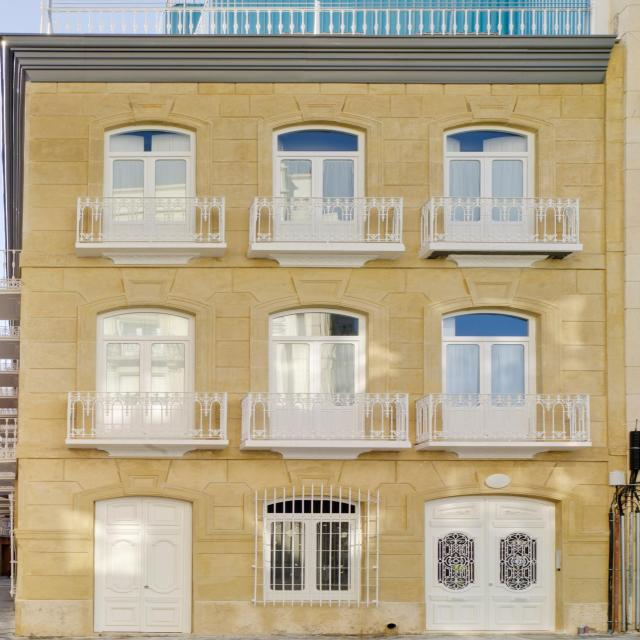door: (427, 491, 557, 634), (91, 491, 193, 634)
railing: (43, 1, 598, 35), (416, 393, 592, 443), (67, 389, 227, 439), (249, 197, 408, 244), (75, 196, 230, 244), (418, 200, 582, 245), (246, 392, 402, 439)
window: (262, 493, 366, 603), (98, 300, 198, 389), (268, 304, 368, 391), (440, 307, 539, 393), (441, 122, 539, 201), (267, 118, 365, 197), (105, 118, 198, 198)
